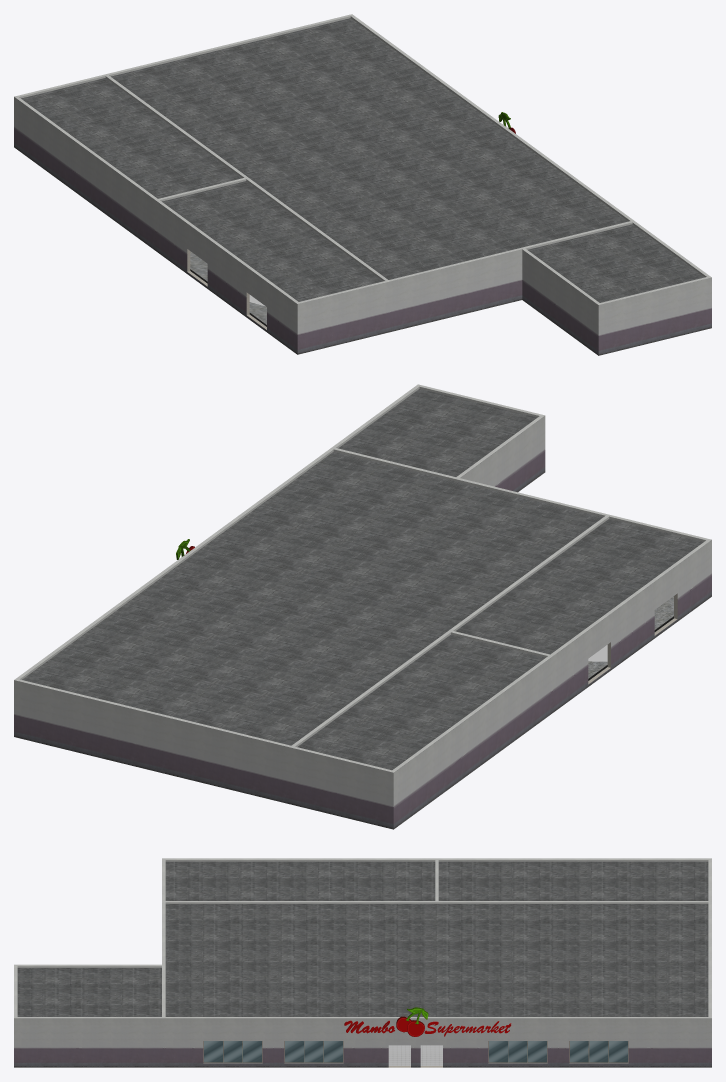
Rendered from sp_mambo_supermarket.FBX.
3 renders of one model, top to bottom at view 1: azimuth 30°, elevation 25°; view 2: azimuth 150°, elevation 25°; view 3: azimuth 270°, elevation 25°, orthographic. The views are drawn at different scales.
Visible parts, largest first — view 1: supermarket_roof, sp_mambo_supermarket; view 2: supermarket_roof, sp_mambo_supermarket; view 3: supermarket_roof, sp_mambo_supermarket, em_supermarket_logo, sp_supermarket_logo.
Part boxes in pixels (bbox=[...]): supermarket_roof: bbox=[19, 16, 706, 302]; sp_mambo_supermarket: bbox=[14, 14, 711, 355]; supermarket_roof: bbox=[20, 386, 705, 770]; sp_mambo_supermarket: bbox=[14, 384, 711, 829]; supermarket_roof: bbox=[17, 860, 708, 1016]; sp_mambo_supermarket: bbox=[14, 858, 711, 1067]; em_supermarket_logo: bbox=[345, 1008, 510, 1036]; sp_supermarket_logo: bbox=[344, 1007, 511, 1034].
Bounding box in the file's own units: 1519 × 2784 × 265.
